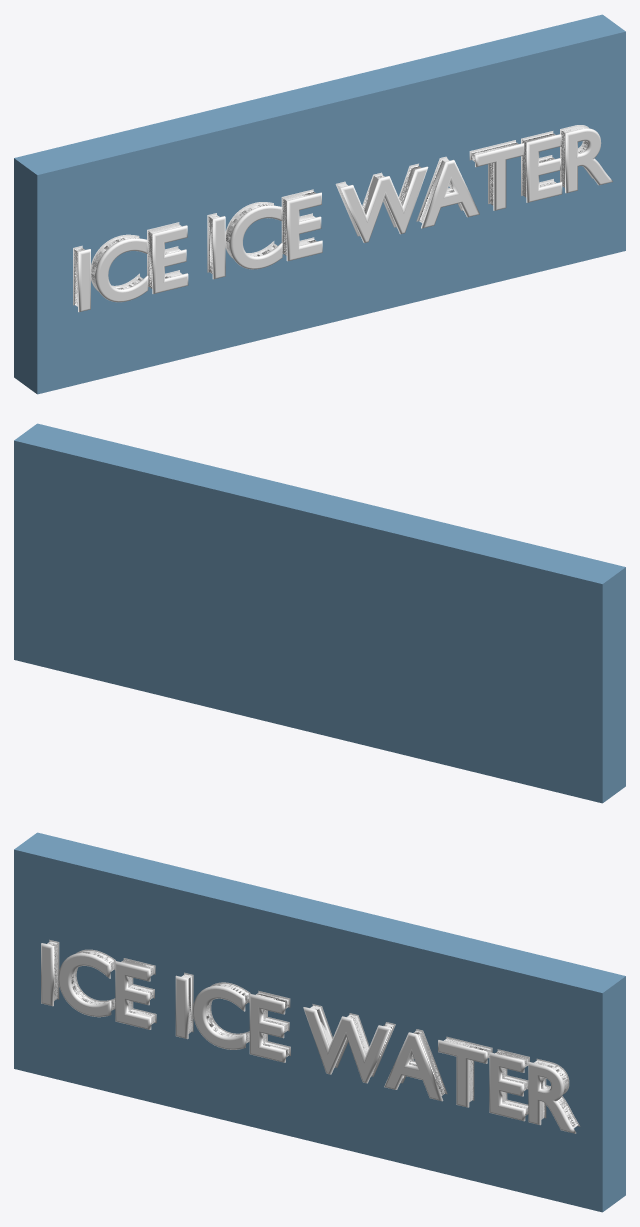
File: iceicewaterpose.fbx
3 renders of one model, top to bottom at view 1: azimuth 30°, elevation 25°; view 2: azimuth 150°, elevation 25°; view 3: azimuth 330°, elevation 25°, orthographic.
Parts seen in each view (by area): view 1: Cube; view 2: Cube; view 3: Cube.
Boxes of the visible parts, x1,y1,x2,y2 form: Cube: (14,14,625,394); Cube: (14,423,625,803); Cube: (14,832,625,1212).
Bounding box in the file's own units: 760 × 270 × 70.34.
